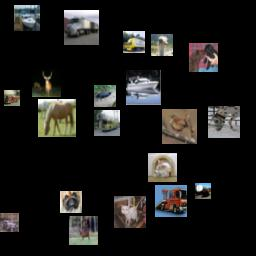automobile: (0, 213, 19, 232)
bird: (162, 109, 197, 144), (151, 34, 173, 56), (94, 85, 116, 107)
cat: (114, 196, 146, 228), (148, 153, 177, 182)
deer: (32, 68, 61, 97), (69, 216, 98, 245)
dog: (189, 43, 218, 72), (60, 191, 82, 213)
ship: (126, 70, 161, 105), (14, 5, 40, 31)
truck: (64, 10, 99, 45), (155, 185, 187, 217), (94, 110, 120, 136), (123, 31, 145, 53), (195, 183, 211, 199), (4, 90, 20, 106)
